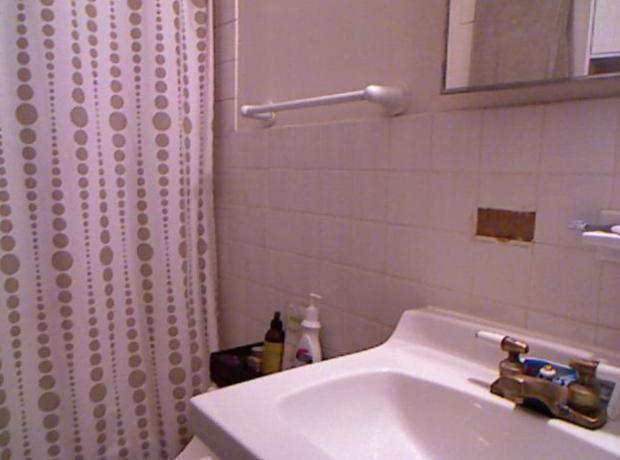Ducha: (0, 2, 213, 458)
Lavamanos: (182, 312, 613, 455)
